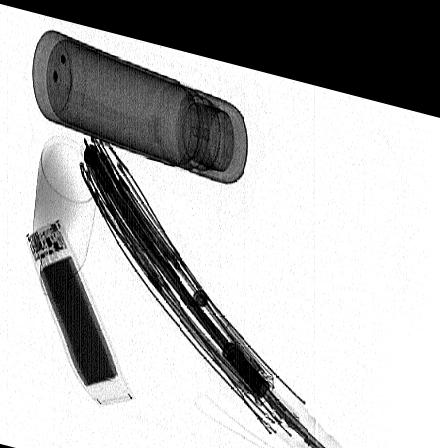Powerbank: (22, 214, 134, 403)
